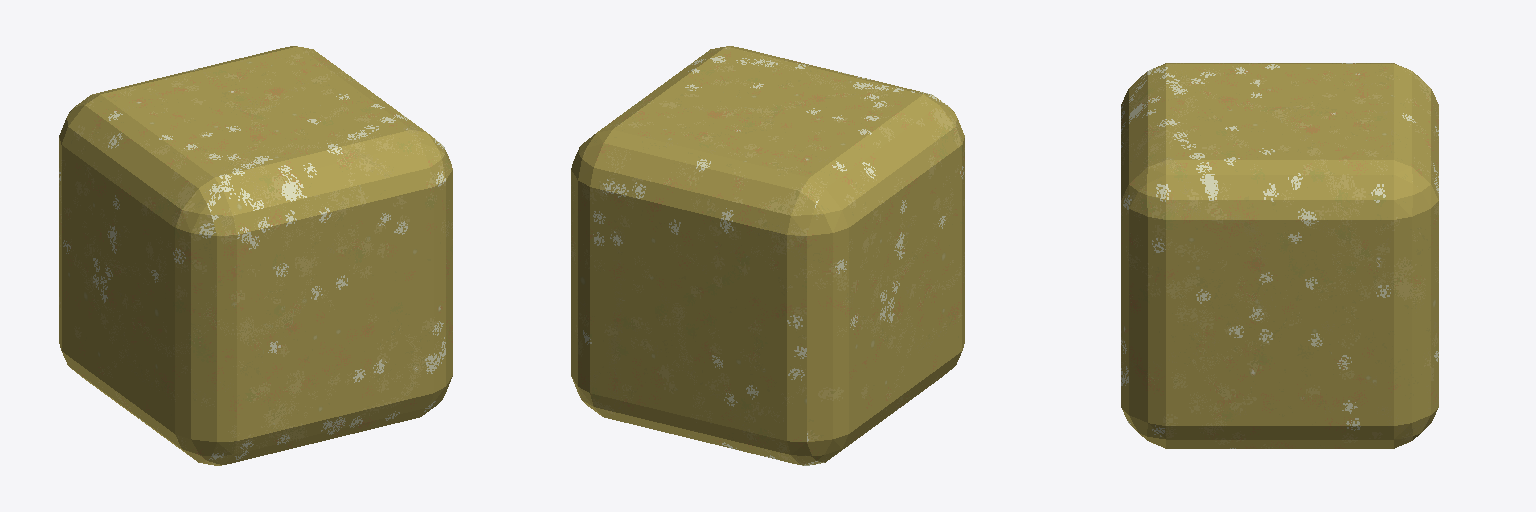
The picture shows the model from 3 angles: view 1: azimuth 30°, elevation 25°; view 2: azimuth 150°, elevation 25°; view 3: azimuth 270°, elevation 25°; orthographic projection.
Parts seen in each view (by area): view 1: 立方体_立方体.002; view 2: 立方体_立方体.002; view 3: 立方体_立方体.002.
Part boxes in pixels (bbox=[...]): 立方体_立方体.002: bbox=[59, 46, 452, 465]; 立方体_立方体.002: bbox=[571, 46, 964, 465]; 立方体_立方体.002: bbox=[1121, 63, 1438, 448].
Size of the model in its own units: 2 by 2 by 2.
1 materials, 1 textured.